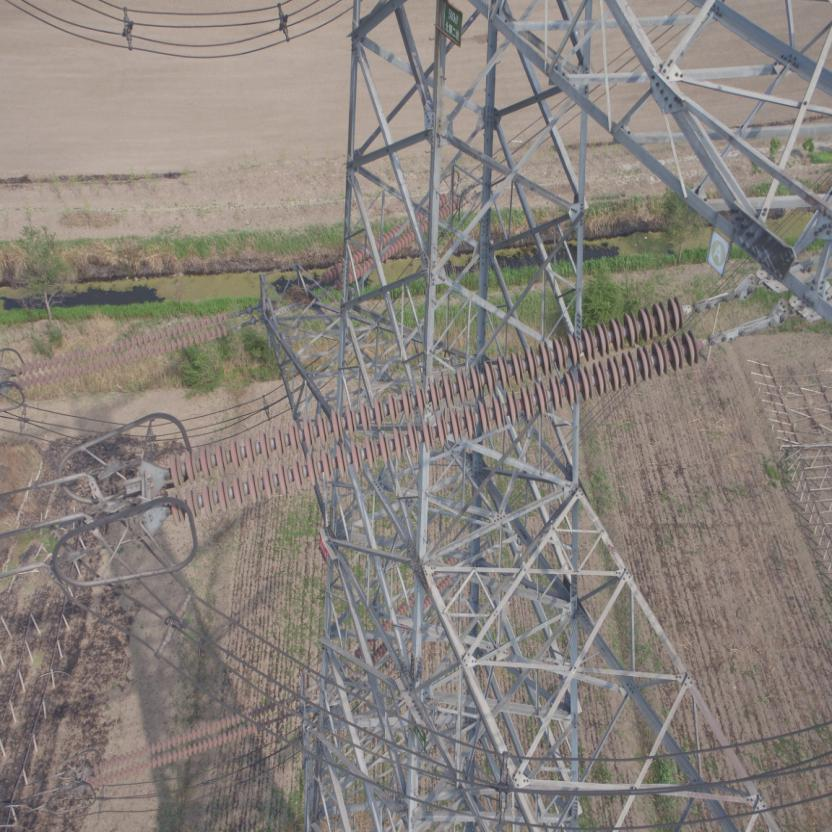insulator: (171, 288, 715, 526), (9, 306, 239, 390), (84, 696, 292, 788)
